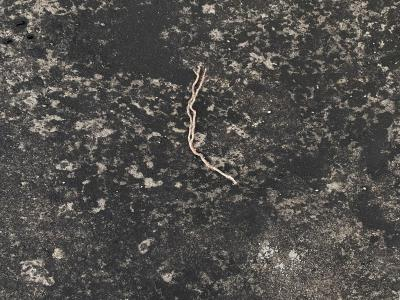Root: (186, 65, 237, 185)
